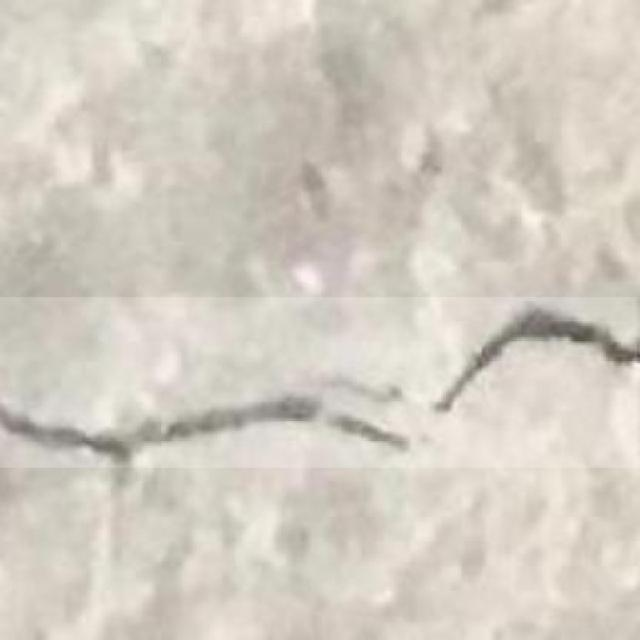Crack: (1, 316, 640, 468)
